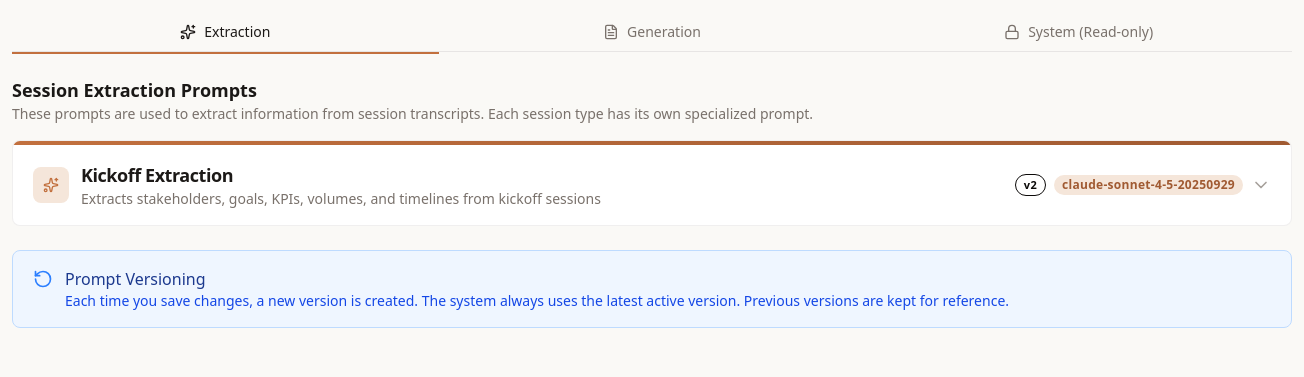
Scenario: PromptManager › shows empty state when no generation prompts exist
Click the tab "Generation". click: [652, 33]
box: 439,12 -> 865,54
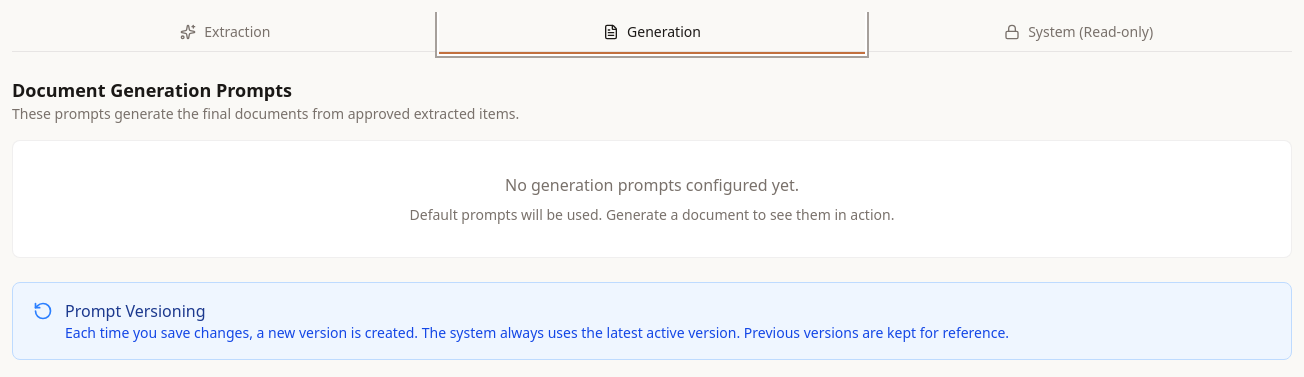
expect the text "No generation prompts configured yet." is shown: met, box 505,174 -> 799,196
